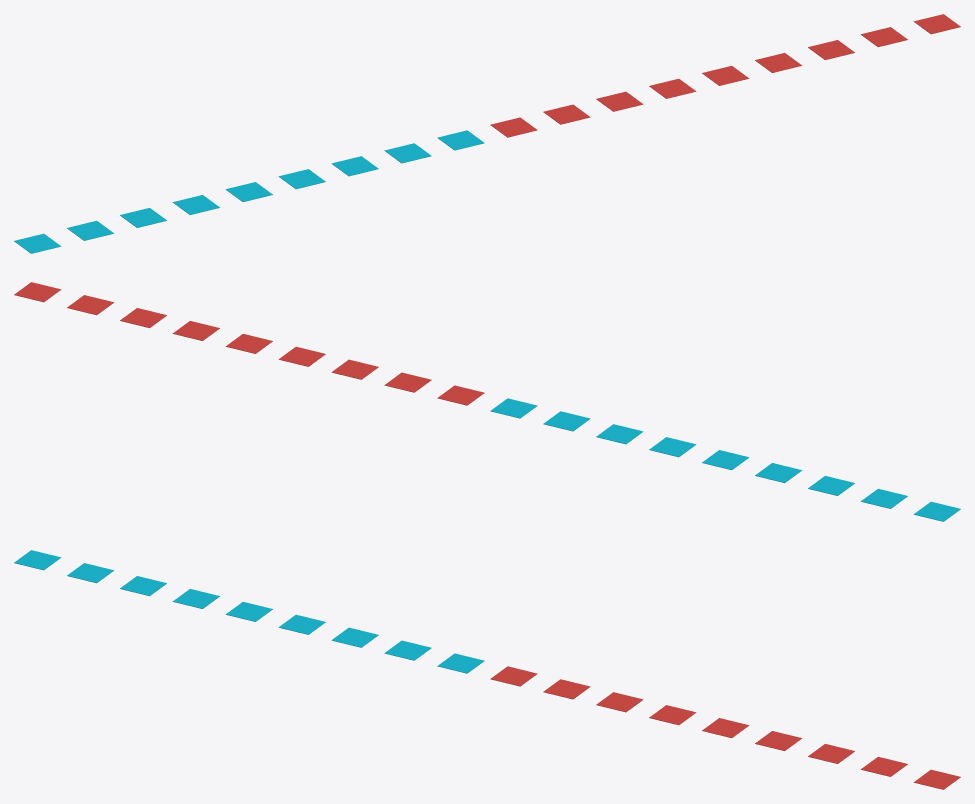
File: 219_L114_Hotspot_Isotherms_Art.obj
3 views of the same model, one above another, from view 1: azimuth 30°, elevation 25°; view 2: azimuth 150°, elevation 25°; view 3: azimuth 330°, elevation 25° (orthographic).
Parts seen in each view (by area): view 1: 219_L114_Hotspot_Isotherms_Art__PSMAT__Indicator_Cyan, 219_L114_Hotspot_Isotherms_Art__PSMAT__Indicator_Red; view 2: 219_L114_Hotspot_Isotherms_Art__PSMAT__Indicator_Cyan, 219_L114_Hotspot_Isotherms_Art__PSMAT__Indicator_Red; view 3: 219_L114_Hotspot_Isotherms_Art__PSMAT__Indicator_Cyan, 219_L114_Hotspot_Isotherms_Art__PSMAT__Indicator_Red.
Part boxes in pixels (x1=…): 219_L114_Hotspot_Isotherms_Art__PSMAT__Indicator_Cyan: x1=14, y1=130, x2=484, y2=253; 219_L114_Hotspot_Isotherms_Art__PSMAT__Indicator_Red: x1=490, y1=14, x2=960, y2=137; 219_L114_Hotspot_Isotherms_Art__PSMAT__Indicator_Cyan: x1=490, y1=398, x2=960, y2=521; 219_L114_Hotspot_Isotherms_Art__PSMAT__Indicator_Red: x1=14, y1=282, x2=484, y2=405; 219_L114_Hotspot_Isotherms_Art__PSMAT__Indicator_Cyan: x1=14, y1=550, x2=484, y2=673; 219_L114_Hotspot_Isotherms_Art__PSMAT__Indicator_Red: x1=490, y1=666, x2=960, y2=789.
Size of the model in its own units: 0.248 by 9e-05 by 0.008.
2 materials, 2 textured.
